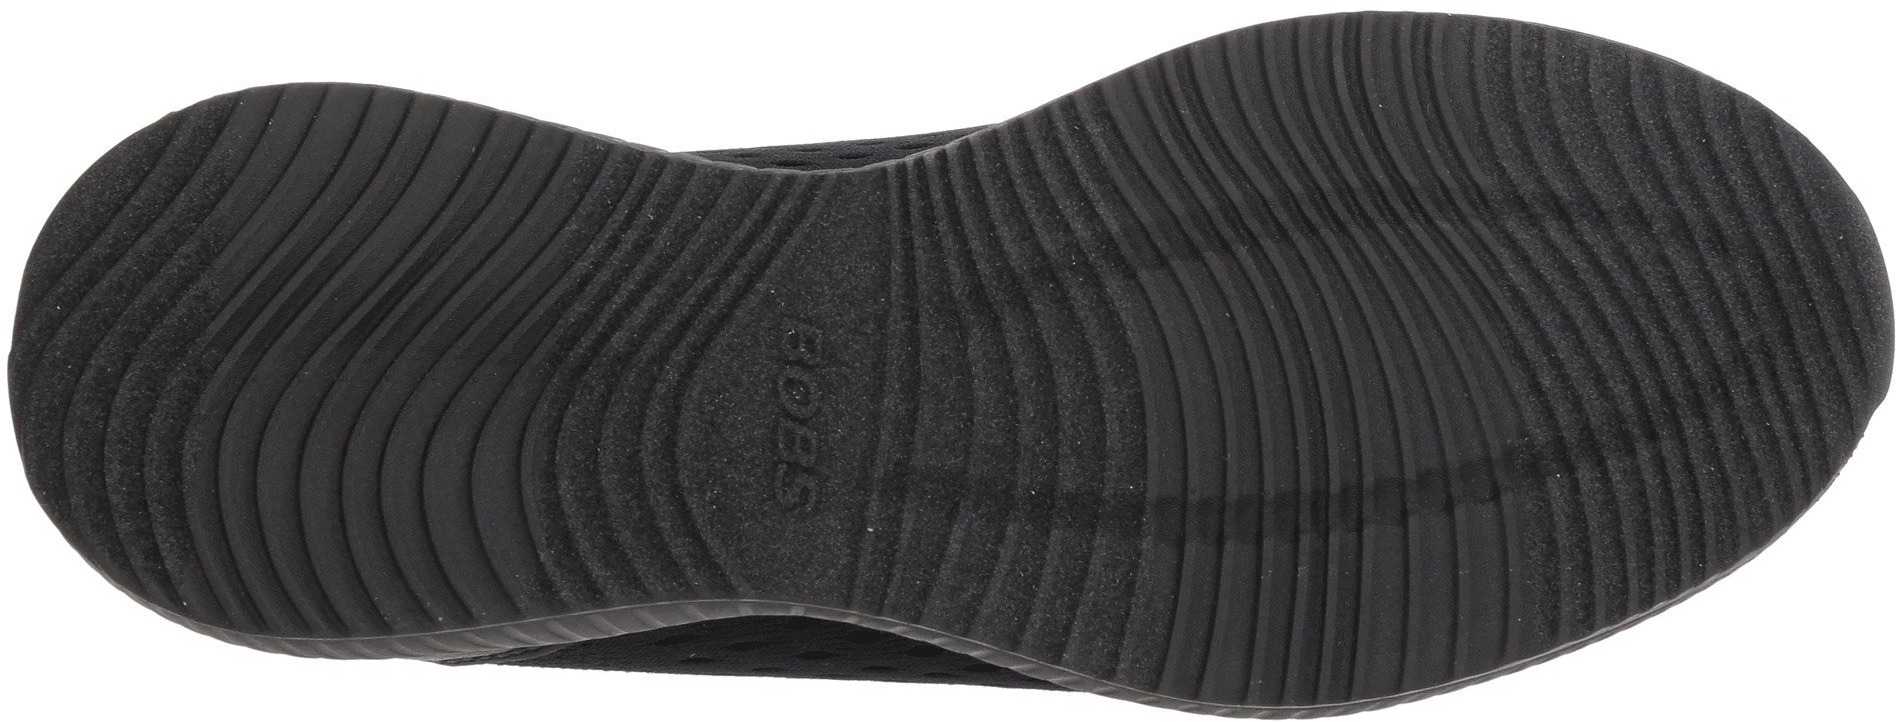exclude: (511, 79, 1017, 172)
line: (1015, 89, 1592, 645), (92, 148, 526, 565), (1549, 177, 1855, 463), (518, 181, 729, 379), (525, 427, 724, 614), (843, 299, 1028, 493)
text: (695, 306, 914, 521)
